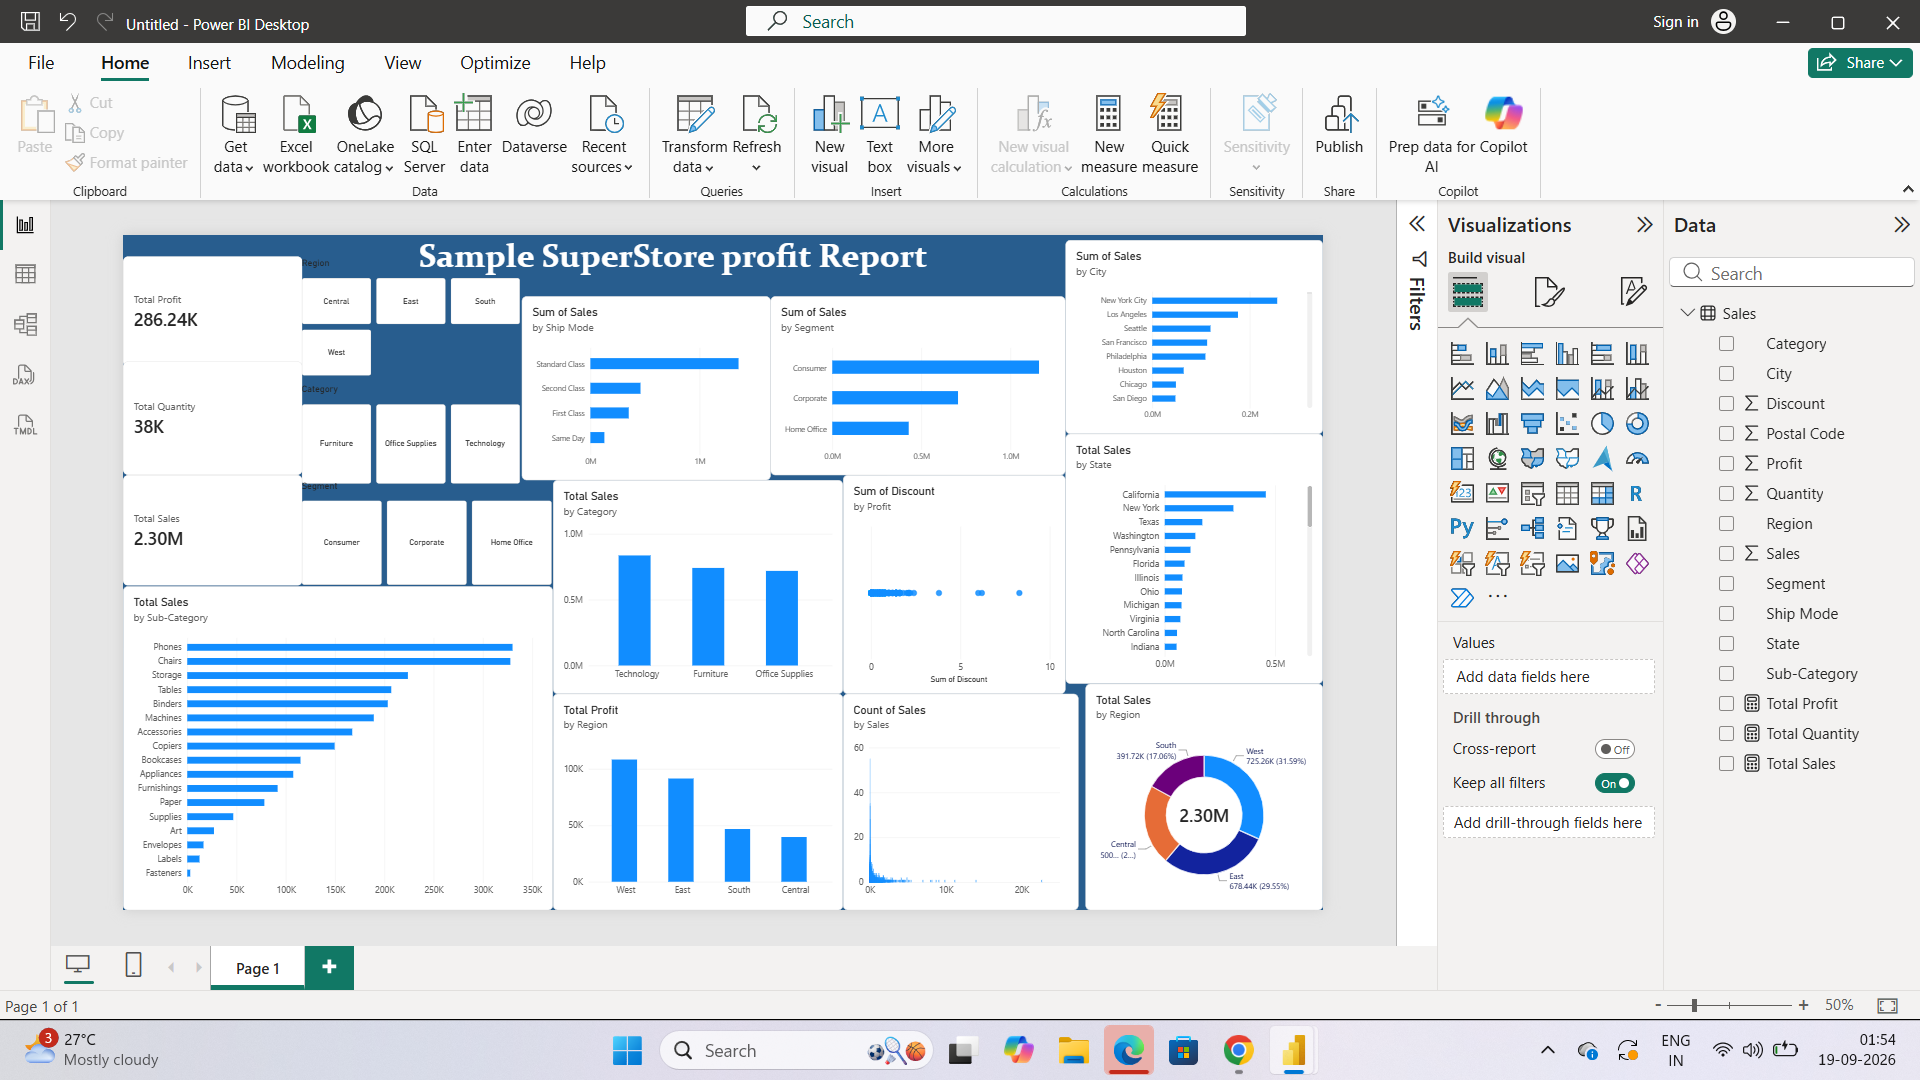

The page's visual inventory and layout, read from the dashboard file:
{"tool":"powerbi","page":{"name":"Page 1","canvas":[1920,1080],"ordinal":0},"visuals":[{"type":"textbox","box":[10,0,1355.7,212.9],"z":0},{"type":"donutChart","fields":{"Category":["Sales.Region"],"Y":["Sales.Total Sales"]},"box":[1540,718,380,362],"z":1000},{"type":"clusteredColumnChart","fields":{"Category":["Sales.Category"],"Y":["Sales.Total Sales"]},"box":[688,392,464,342],"z":2000},{"type":"barChart","fields":{"Category":["Sales.Sub-Category"],"Y":["Sales.Total Sales"]},"box":[0,562,688,518],"z":3000},{"type":"columnChart","fields":{"Category":["Sales.Region"],"Y":["Sales.Total Profit"]},"box":[688,734,464,346],"z":4000},{"type":"barChart","fields":{"Category":["Sales.State"],"Y":["Sales.Total Sales"]},"box":[1508,318,412,400],"z":5000},{"type":"cardVisual","fields":{"Data":["Sales.Total Profit"]},"box":[0,34,287.5,177.5],"z":6000},{"type":"cardVisual","fields":{"Data":["Sales.Total Quantity"]},"box":[0,202,287.5,182.5],"z":7000},{"type":"cardVisual","fields":{"Data":["Sales.Total Sales"]},"box":[0,384,287.5,177.5],"z":8000},{"type":"barChart","fields":{"Category":["Sales.Ship Mode"],"Y":["Sum(Sales.Sales)"]},"box":[638,98,398,294],"z":9000},{"type":"barChart","fields":{"Category":["Sales.City"],"Y":["Sum(Sales.Sales)"]},"box":[1508,8,412,310],"z":10000},{"type":"barChart","fields":{"Category":["Sales.Segment"],"Y":["Sum(Sales.Sales)"]},"box":[1036,98,472,286],"z":11000},{"type":"scatterChart","fields":{"Category":["Sales.Profit"],"X":["Sum(Sales.Discount)"]},"box":[1152,384,356,350],"z":12000},{"type":"columnChart","fields":{"Category":["Sales.Sales"],"Y":["CountNonNull(Sales.Sales)"]},"box":[1151.7,733.3,376.7,346.7],"z":13000},{"type":"advancedSlicerVisual","fields":{"Values":["Sales.Region"]},"box":[286,36,350,190],"z":13001},{"type":"advancedSlicerVisual","fields":{"Values":["Sales.Category"]},"box":[286,238,350,160],"z":13002},{"type":"advancedSlicerVisual","fields":{"Values":["Sales.Segment"]},"box":[286,392,402,168],"z":13003}]}

Visuals, with their boxes on the page's 1920x1080 design canvas (x1, y1, x2, y2). These are canvas units, not pixel positions in the 1920x1080 screenshot, which may show the page scaled, cropped or inside an application window:
textbox: {"left": 10, "top": 0, "right": 1366, "bottom": 213}
donutChart - Sales.Region x Sales.Total Sales: {"left": 1540, "top": 718, "right": 1920, "bottom": 1080}
clusteredColumnChart - Sales.Category x Sales.Total Sales: {"left": 688, "top": 392, "right": 1152, "bottom": 734}
barChart - Sales.Sub-Category x Sales.Total Sales: {"left": 0, "top": 562, "right": 688, "bottom": 1080}
columnChart - Sales.Region x Sales.Total Profit: {"left": 688, "top": 734, "right": 1152, "bottom": 1080}
barChart - Sales.State x Sales.Total Sales: {"left": 1508, "top": 318, "right": 1920, "bottom": 718}
cardVisual - Sales.Total Profit: {"left": 0, "top": 34, "right": 288, "bottom": 212}
cardVisual - Sales.Total Quantity: {"left": 0, "top": 202, "right": 288, "bottom": 384}
cardVisual - Sales.Total Sales: {"left": 0, "top": 384, "right": 288, "bottom": 562}
barChart - Sales.Ship Mode x Sum(Sales.Sales): {"left": 638, "top": 98, "right": 1036, "bottom": 392}
barChart - Sales.City x Sum(Sales.Sales): {"left": 1508, "top": 8, "right": 1920, "bottom": 318}
barChart - Sales.Segment x Sum(Sales.Sales): {"left": 1036, "top": 98, "right": 1508, "bottom": 384}
scatterChart - Sales.Profit x Sum(Sales.Discount): {"left": 1152, "top": 384, "right": 1508, "bottom": 734}
columnChart - Sales.Sales x CountNonNull(Sales.Sales): {"left": 1152, "top": 733, "right": 1528, "bottom": 1080}
advancedSlicerVisual - Sales.Region: {"left": 286, "top": 36, "right": 636, "bottom": 226}
advancedSlicerVisual - Sales.Category: {"left": 286, "top": 238, "right": 636, "bottom": 398}
advancedSlicerVisual - Sales.Segment: {"left": 286, "top": 392, "right": 688, "bottom": 560}
